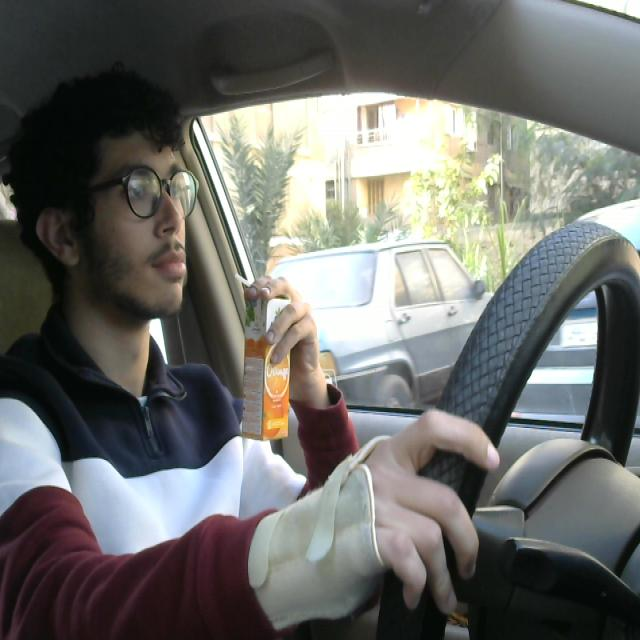drinking: (230, 267, 296, 443)
